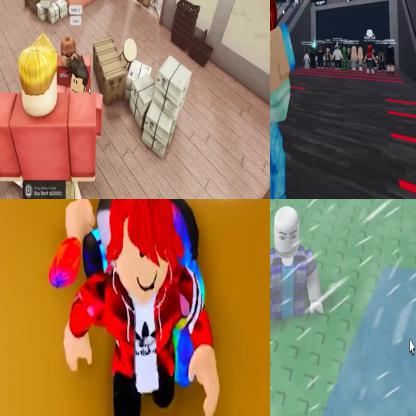Roblox-Avatar: (64, 200, 221, 416), (1, 34, 98, 199), (271, 206, 326, 330), (271, 1, 298, 199)
